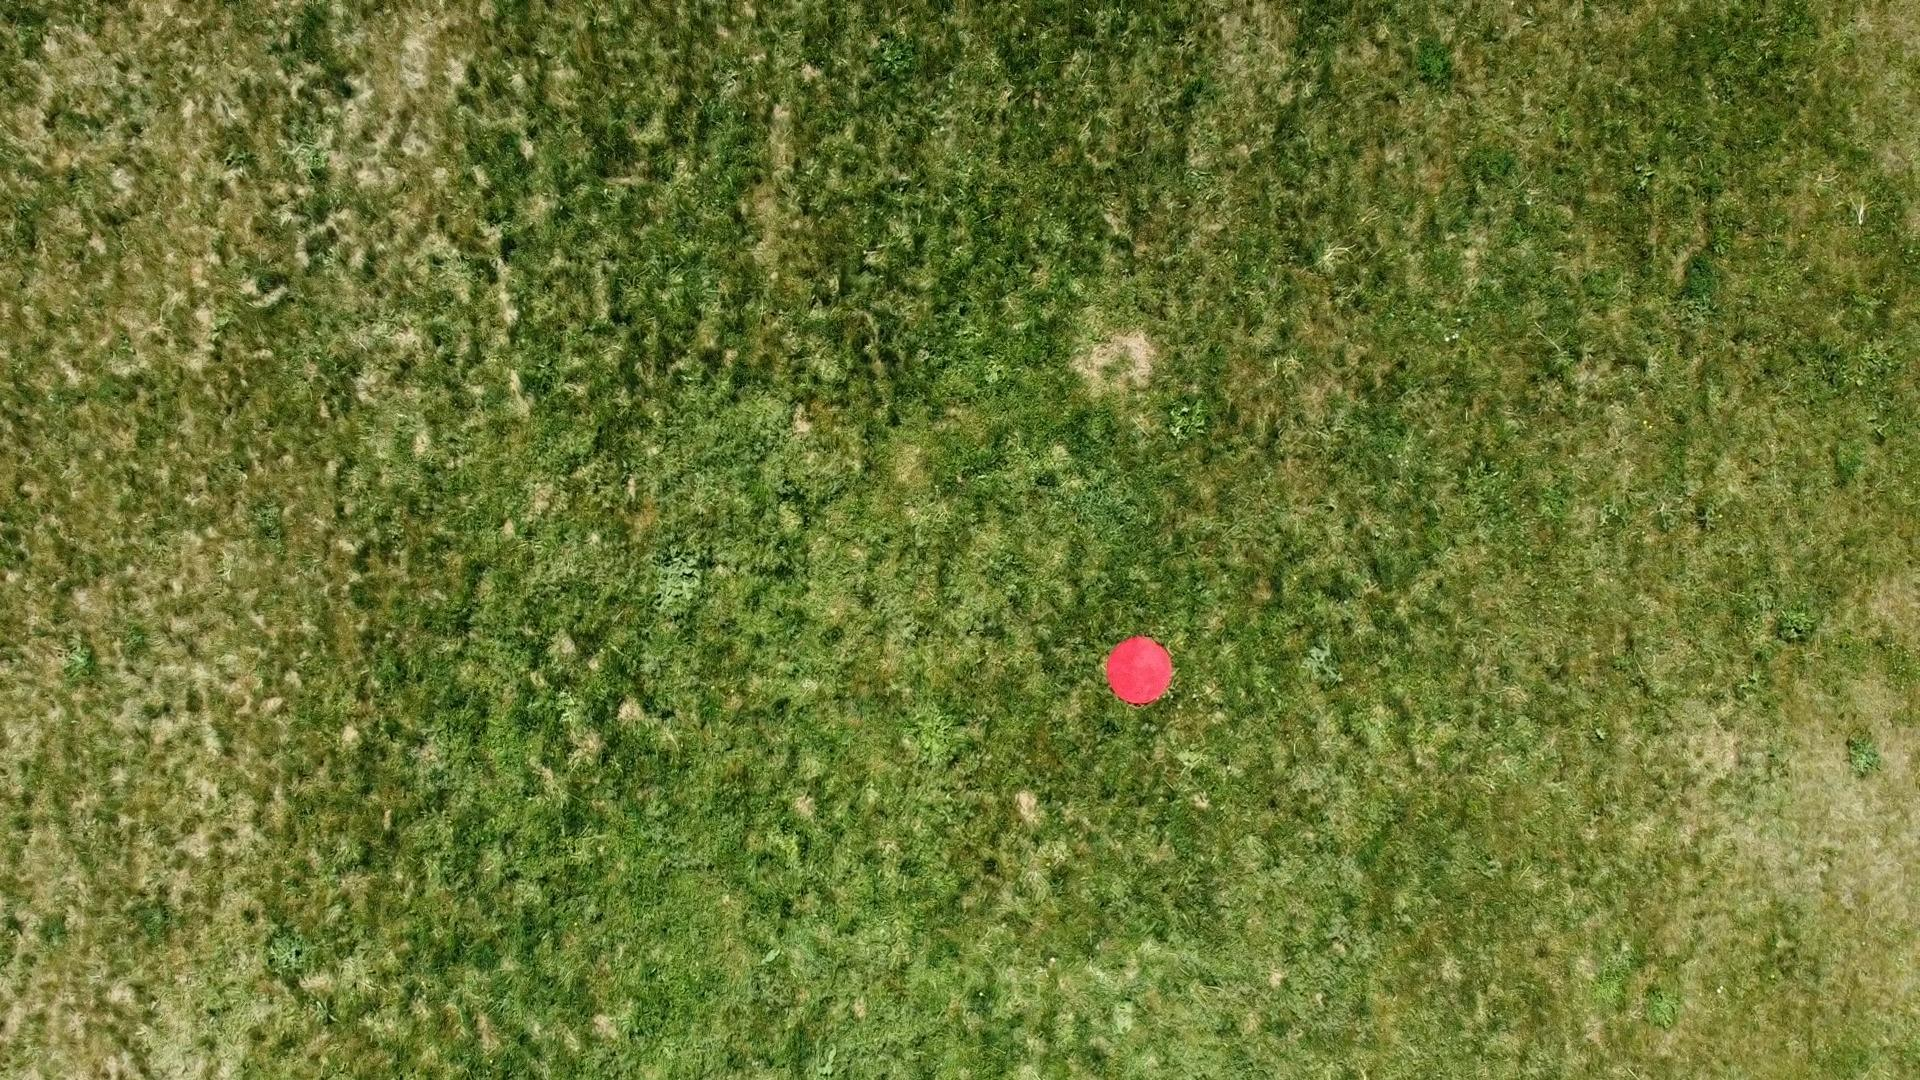Red: (1105, 634, 1175, 707)
